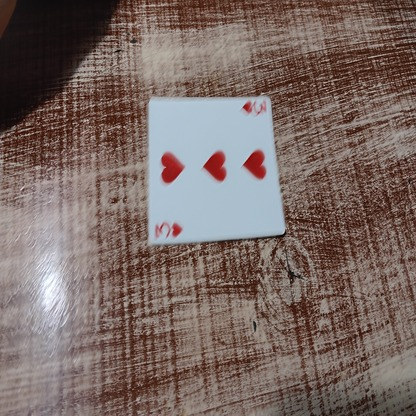3h: (151, 219, 183, 239), (243, 96, 266, 116)
